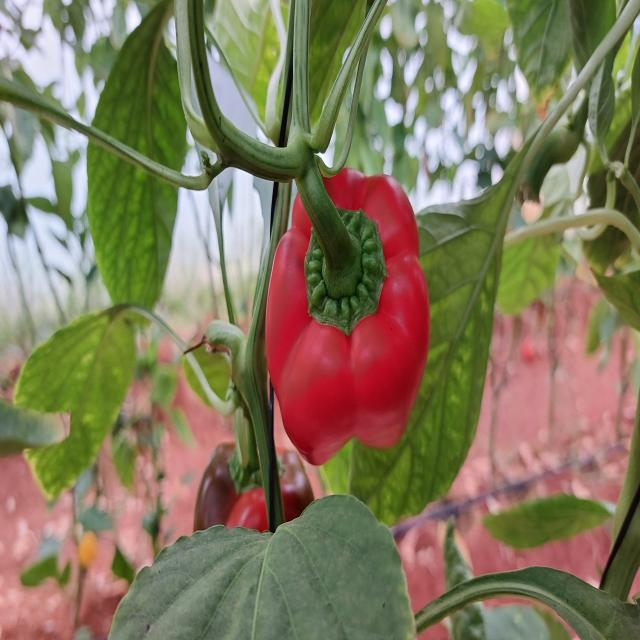BrownishRed--Can-be-Harvested: (264, 167, 432, 467)
